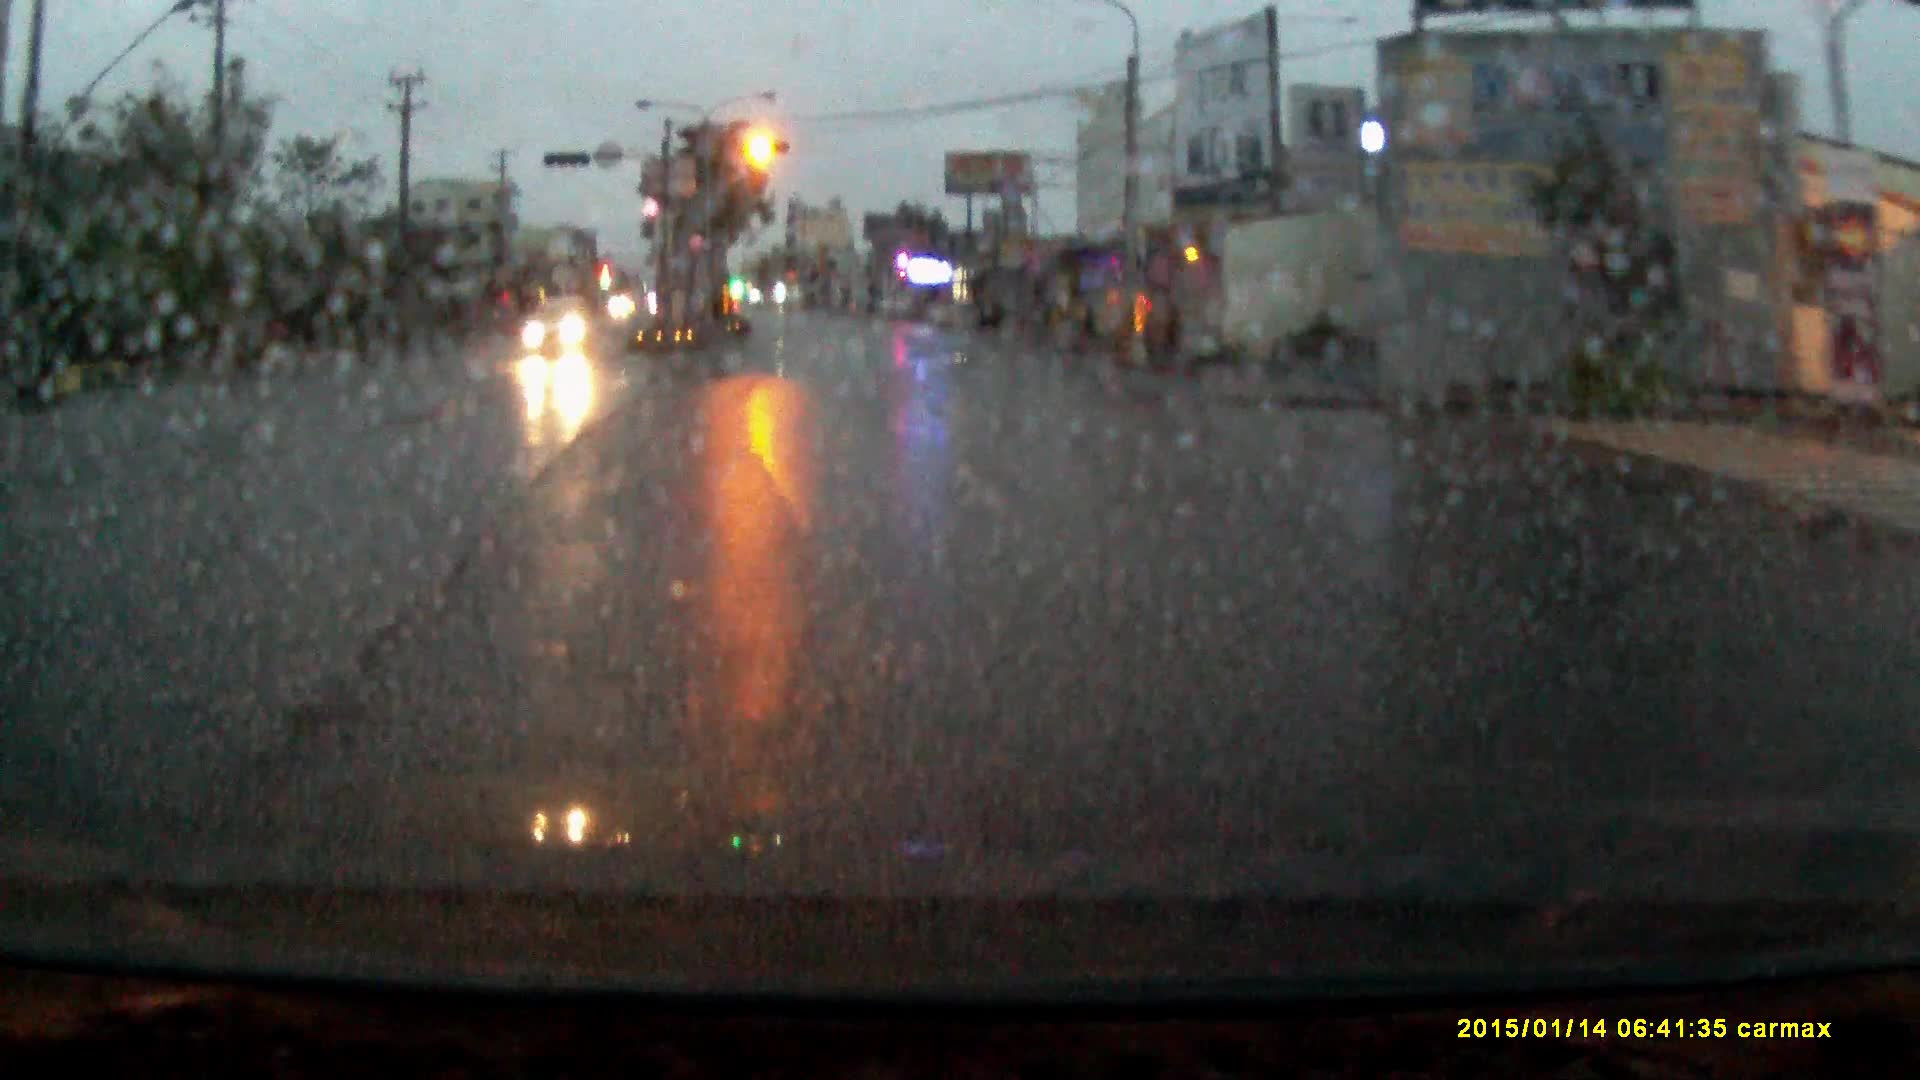vehicle: (520, 302, 599, 363)
